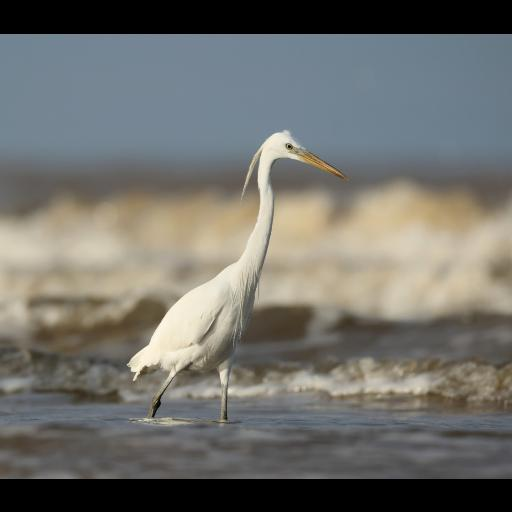chinese_egret: (126, 128, 350, 422)
